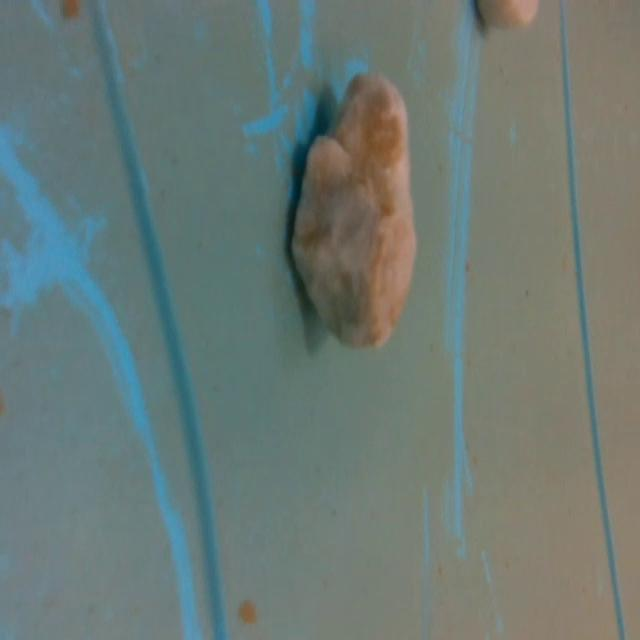rock: (286, 61, 422, 356)
